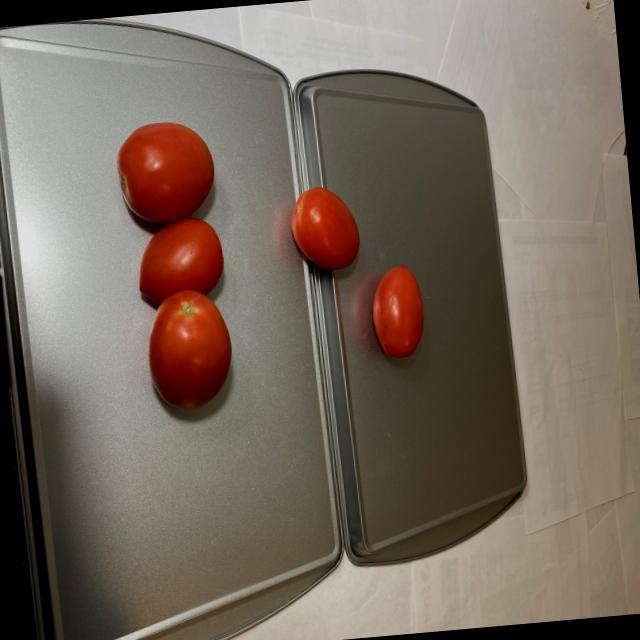tomato: (112, 110, 242, 438), (287, 177, 426, 366)
